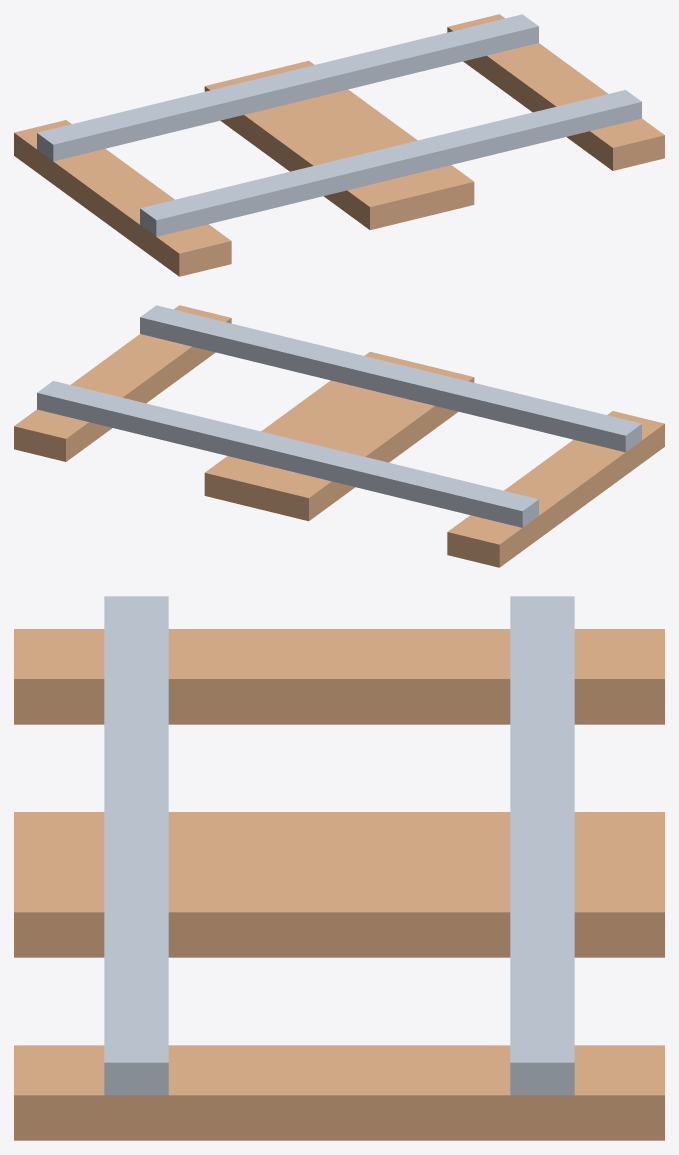
File: trackStraight.glb
3 renders of one model, top to bottom at view 1: azimuth 30°, elevation 25°; view 2: azimuth 150°, elevation 25°; view 3: azimuth 270°, elevation 25°, orthographic. The views are drawn at different scales.
Visible parts, largest first — view 1: trackStraight; view 2: trackStraight; view 3: trackStraight.
Part boxes in pixels (<box>): trackStraight: <box>14,14,664,276</box>; trackStraight: <box>14,305,664,567</box>; trackStraight: <box>14,596,664,1140</box>.
Bounding box in the file's own units: 0.308 × 0.0241 × 0.1817.
